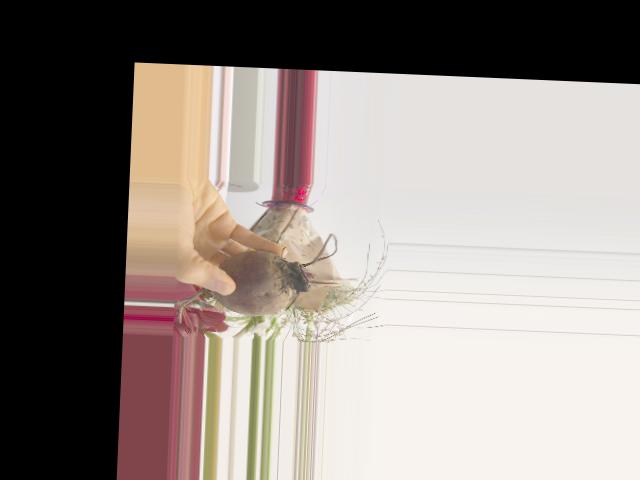beet: (179, 227, 338, 329)
